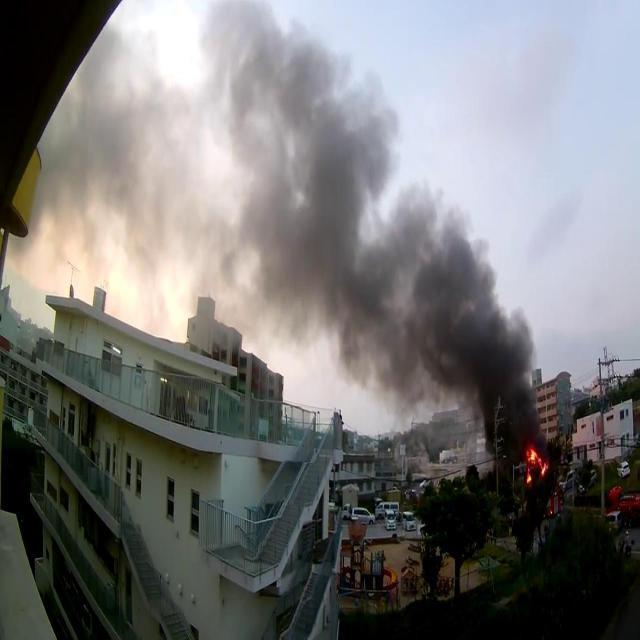Fire: (526, 448, 550, 486)
